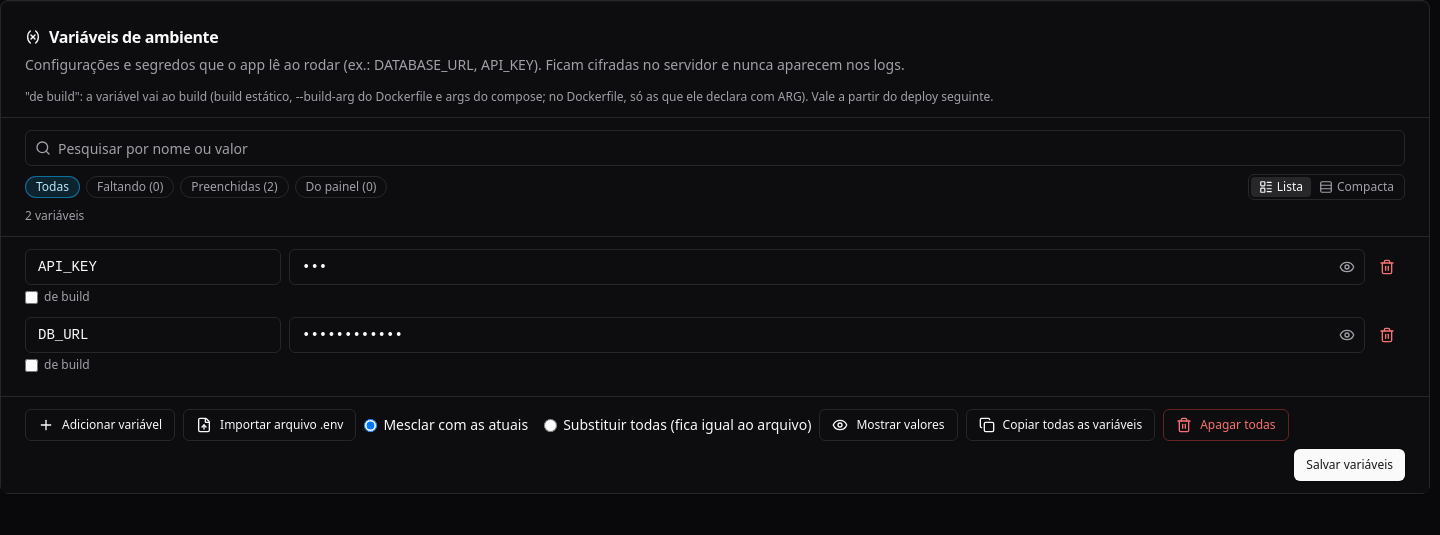
Test: Variáveis — botões do rodapé com a pesquisa ativa › 'Mostrar valores' vale para todas (inclusive as que a pesquisa esconde), e a tela avisa
Expected: the password field showing "abc" is shown, [289,249,1365,285]
Type "api" into the search field named "Pesquisar variáveis" at (715,148), box [25,130,1405,166]
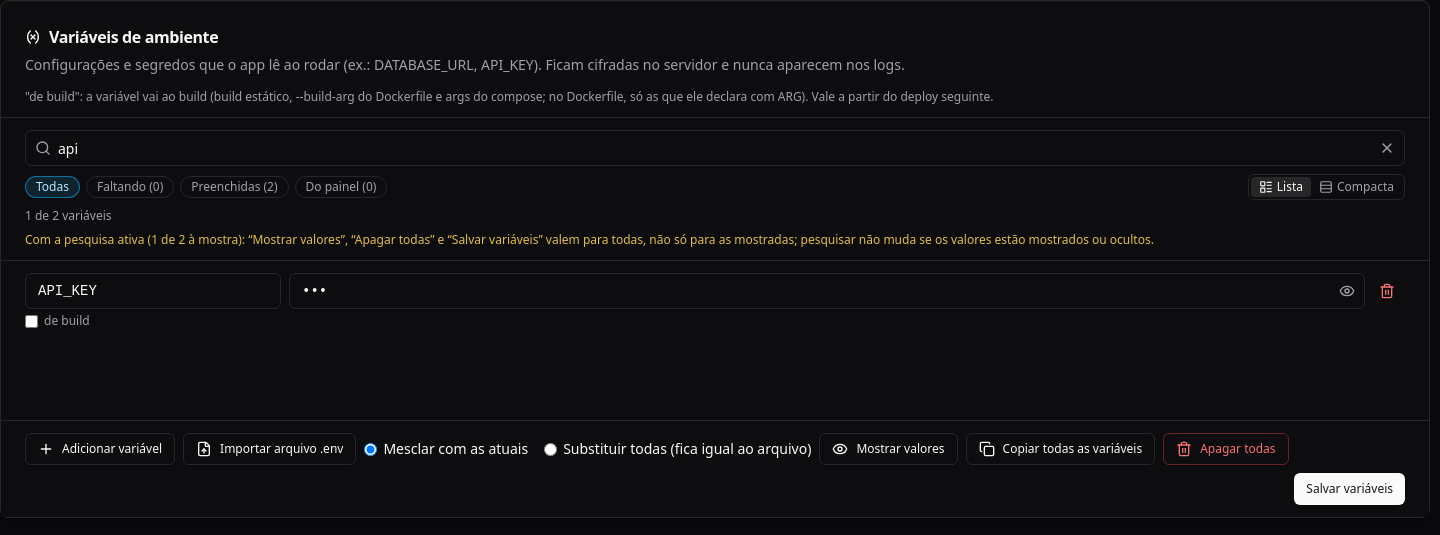
Click the button "Mostrar valores" at (888,449), box [819,433,958,465]
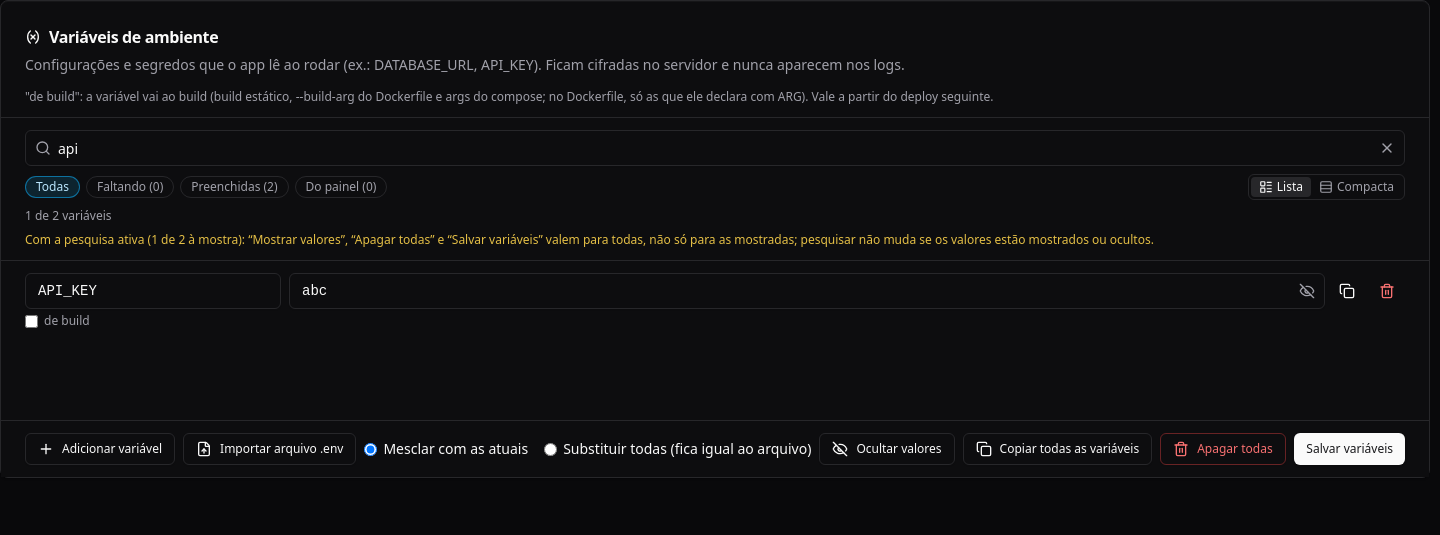
Clear the search field named "Pesquisar variáveis" at (715,148), box [25,130,1405,166]
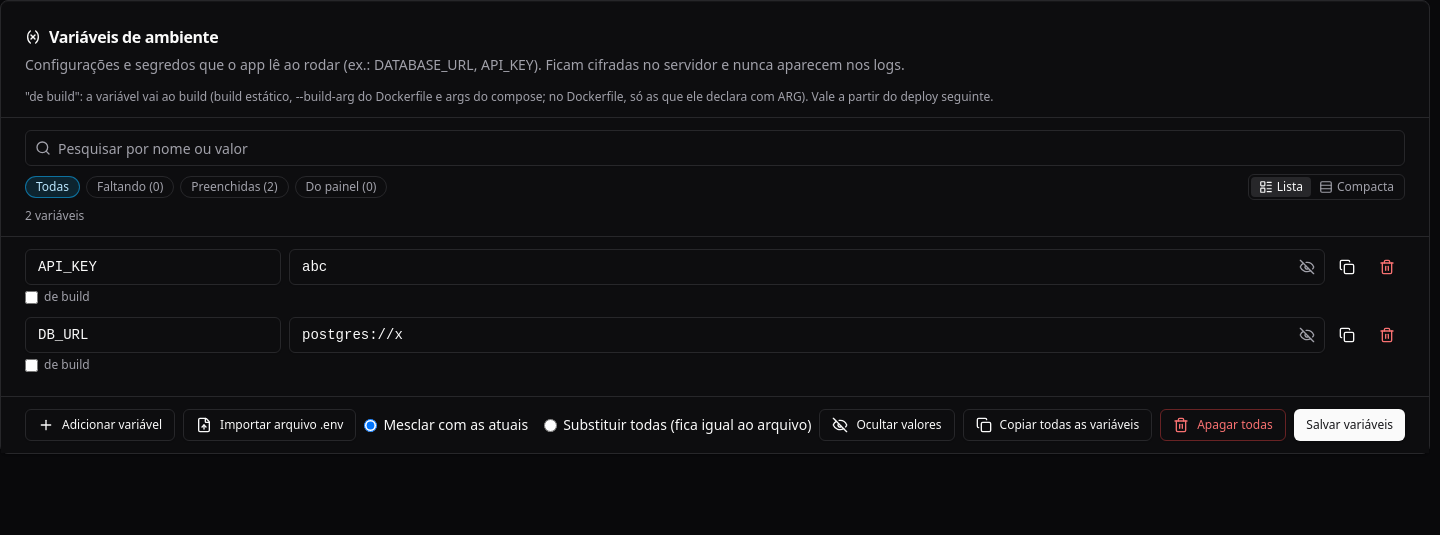
Expected: the text with test id "env-filter-note" is gone
